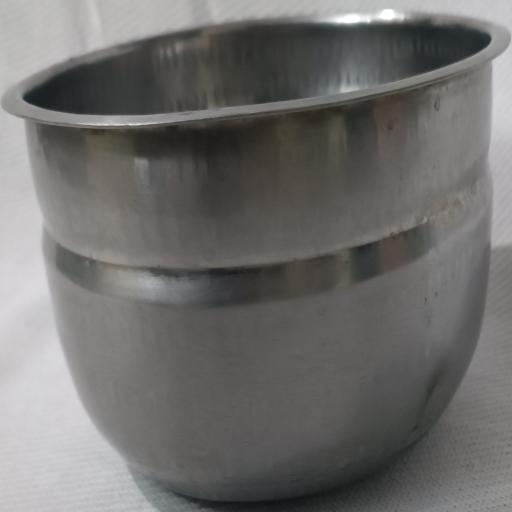vessel: (3, 10, 510, 501)
